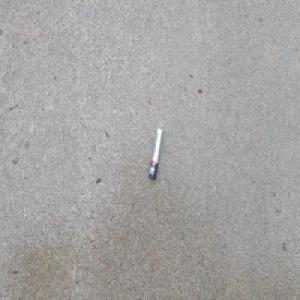Battery: (149, 127, 163, 181)
